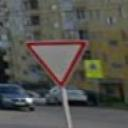preferencia: (20, 37, 94, 92)
